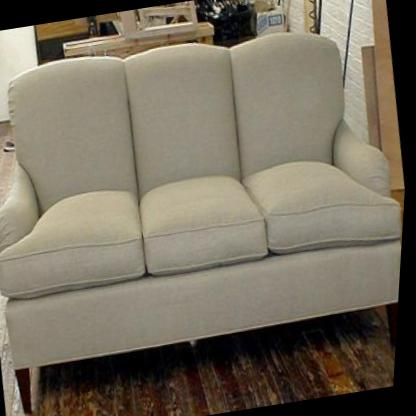Sofa: (0, 6, 416, 416)
